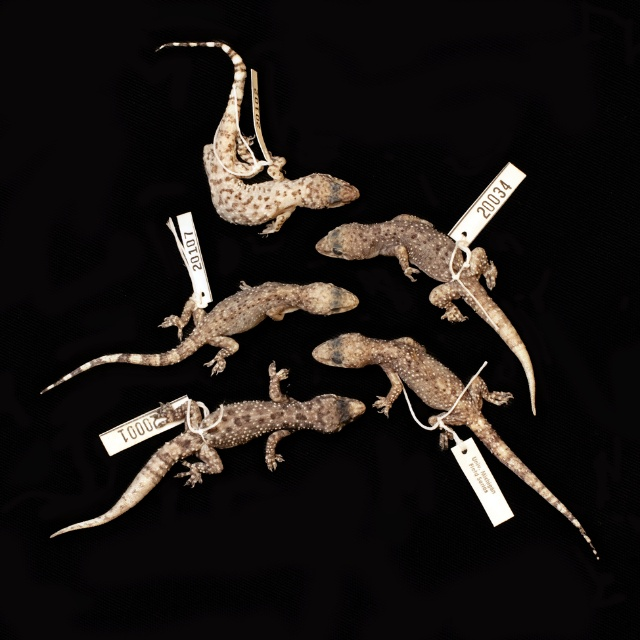Lizard: (38, 39, 613, 560)
